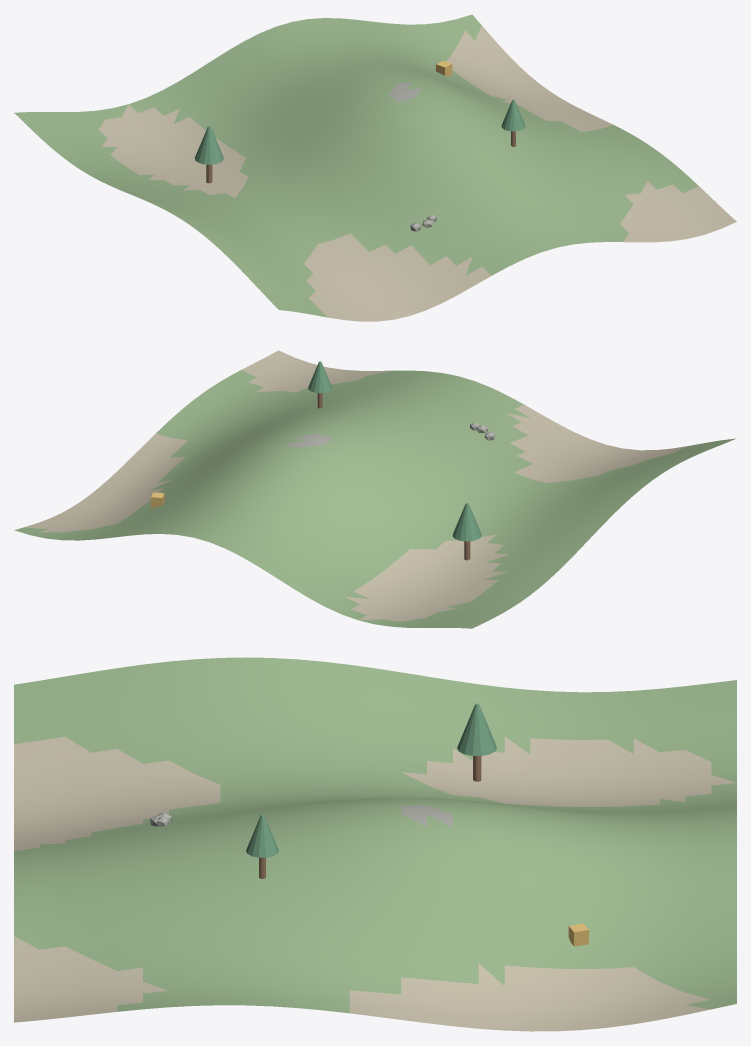
Rendered from royal-cheap-blender-tile.glb.
3 renders of one model, top to bottom at view 1: azimuth 30°, elevation 25°; view 2: azimuth 150°, elevation 25°; view 3: azimuth 270°, elevation 25°, orthographic. The views are drawn at different scales.
Visible parts, largest first — view 1: royal_cheap_terrain, asset:tree:west:canopy; view 2: royal_cheap_terrain, asset:tree:west:canopy, asset:tree:ridge:canopy; view 3: royal_cheap_terrain, asset:tree:west:canopy, asset:tree:ridge:canopy.
Boxes of the visible parts, box(x1,y1,x2,y2) form: royal_cheap_terrain: box(14, 14, 736, 321); asset:tree:west:canopy: box(195, 126, 223, 164); royal_cheap_terrain: box(14, 350, 736, 628); asset:tree:west:canopy: box(452, 503, 481, 541); asset:tree:ridge:canopy: box(308, 361, 331, 393); royal_cheap_terrain: box(14, 657, 736, 1031); asset:tree:west:canopy: box(457, 703, 497, 755); asset:tree:ridge:canopy: box(246, 814, 278, 857).
Size of the model in its own units: 64 by 13.59 by 64.
